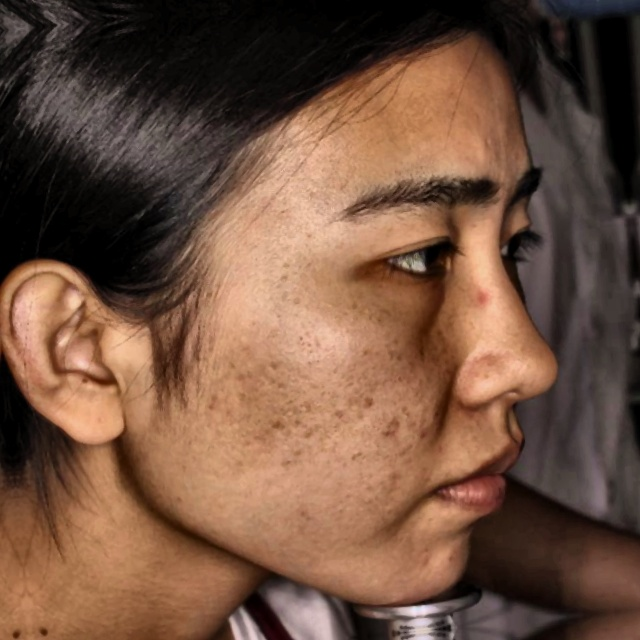comedone: (464, 284, 506, 314), (414, 414, 426, 446)
